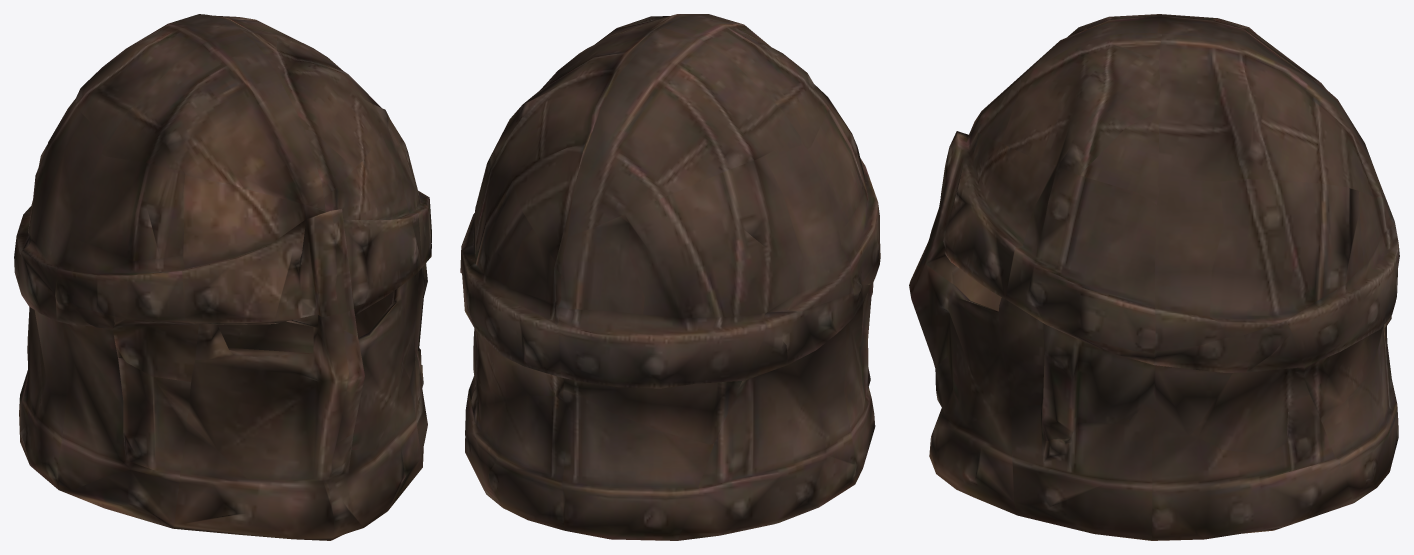
The model's file is Leather_Helm_Armor.glb.
3 renders of one model, left to right at view 1: azimuth 30°, elevation 25°; view 2: azimuth 150°, elevation 25°; view 3: azimuth 270°, elevation 25°, orthographic. The views are drawn at different scales.
Bounding box in the file's own units: 1.64 × 1.86 × 1.89.
Materials: 1 (1 with a texture image).
